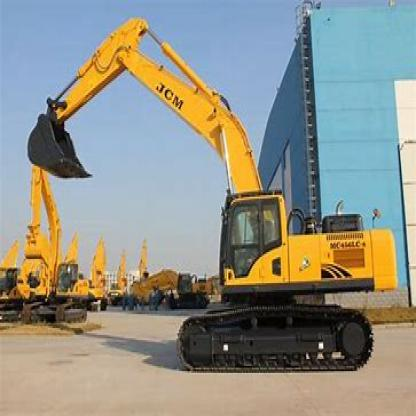excavator: (22, 10, 401, 382)
